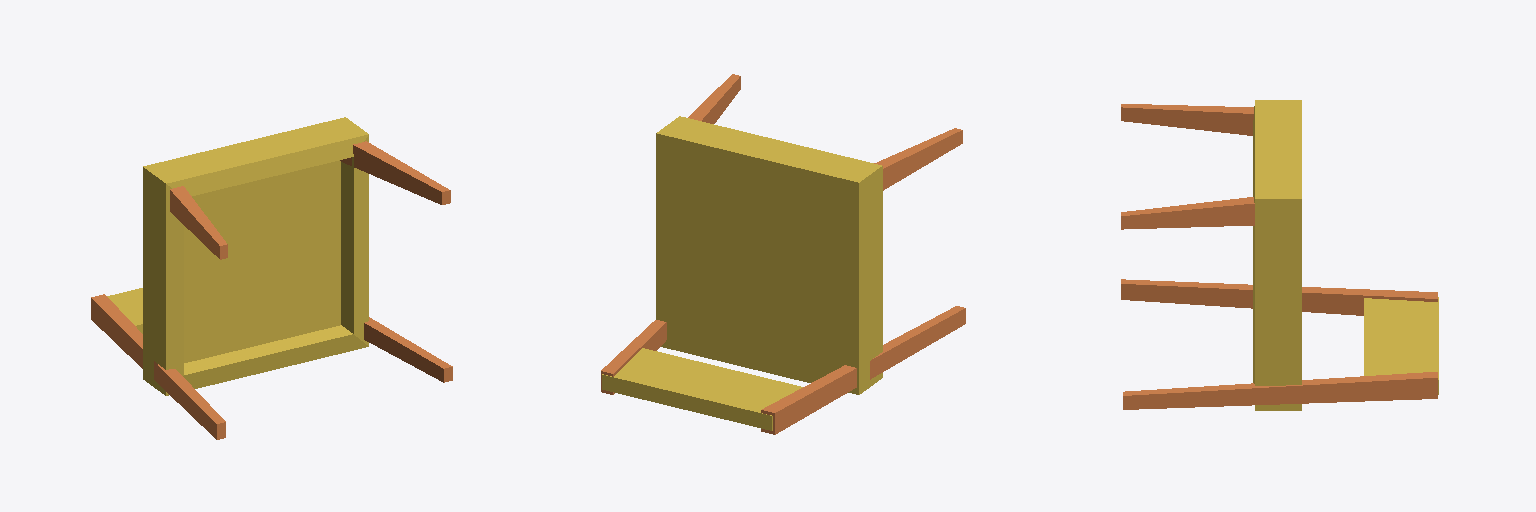
Rendered from chair.obj.
3 views of the same model, side by side, from view 1: azimuth 30°, elevation 25°; view 2: azimuth 150°, elevation 25°; view 3: azimuth 270°, elevation 25° (orthographic).
Size of the model in its own units: 36.94 by 31.65 by 42.88.